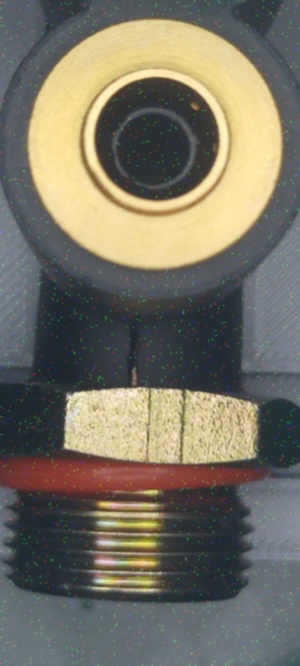craze: (125, 317, 145, 388)
